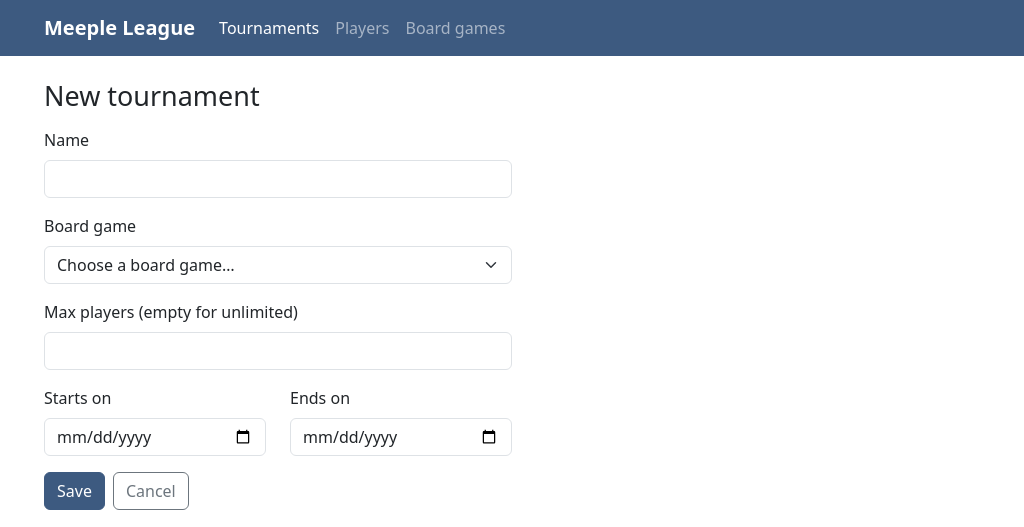
Test case: tournaments › creates a tournament and opens its page
The width and height of the screenshot is (1024, 527).
In the field labelled "Name": (278, 179) [44,160,512,198], type "Autumn Cup"
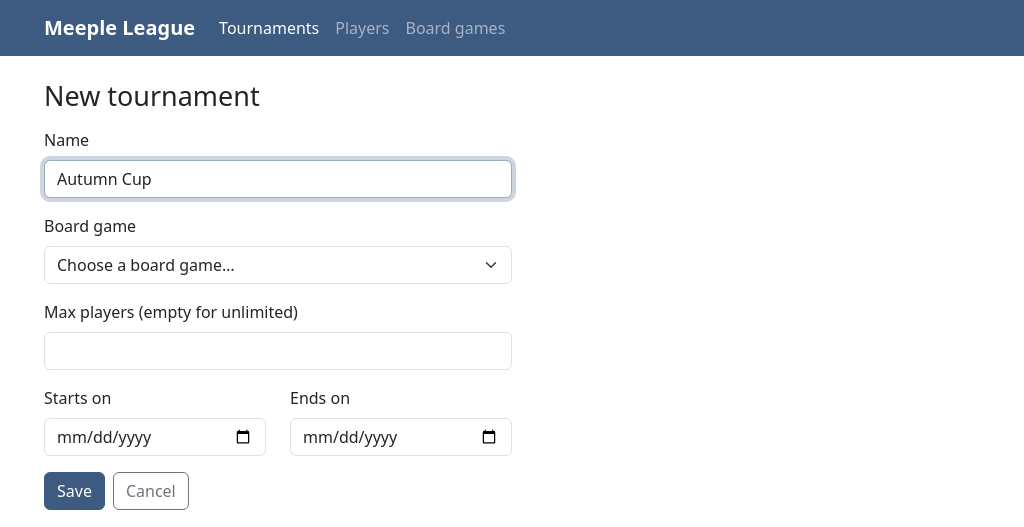
Select "Catan" in the dropdown labelled "Board game": (278, 265) [44,246,512,284]
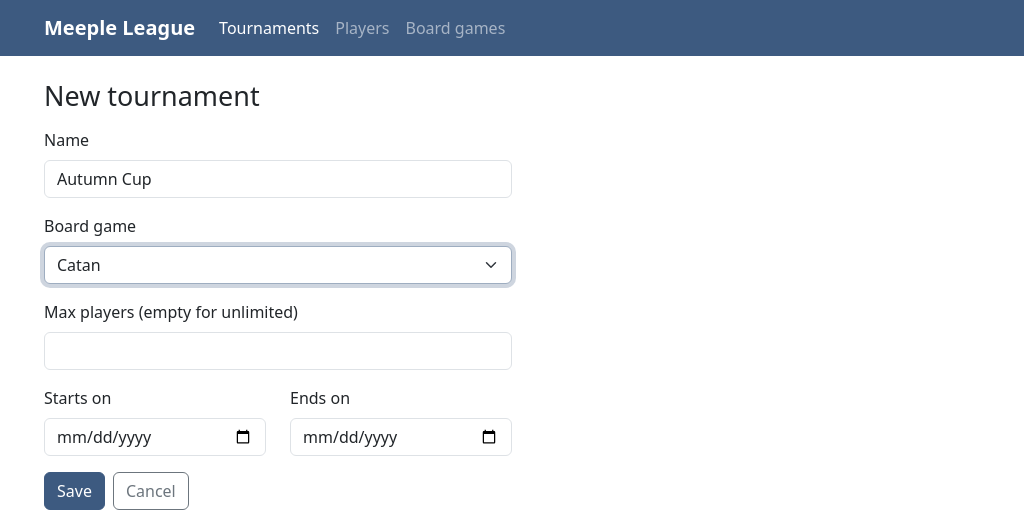
Click the button "Save": (74, 491) [44,472,105,510]
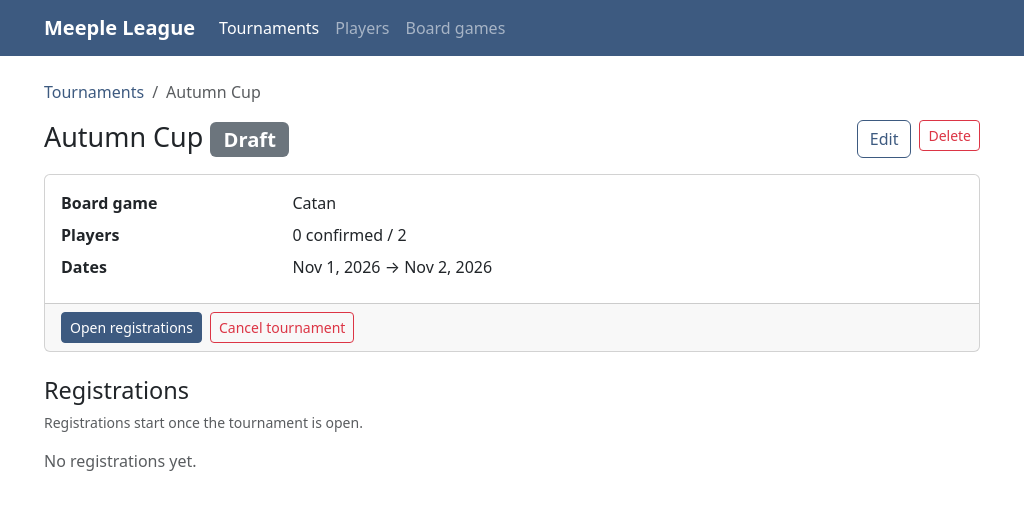
Now the text "Registrations start once the tournament is open." is shown, box [44,413,363,432]
